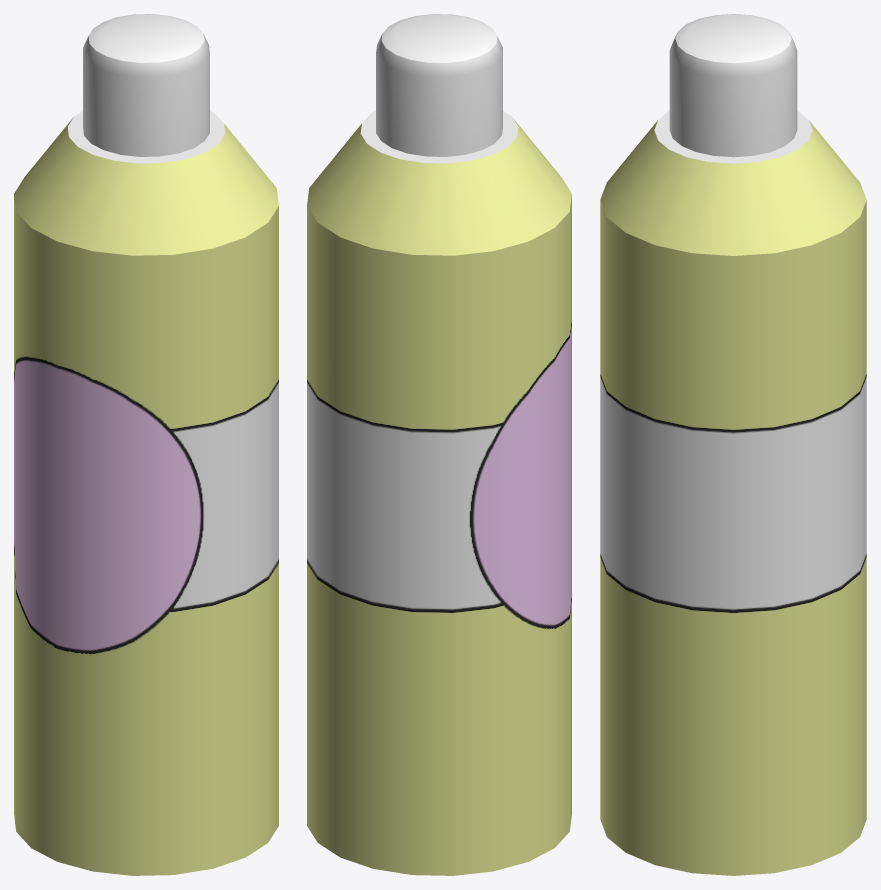
File: CleaningBottleLg.fbx
3 views of the same model, side by side, from view 1: azimuth 30°, elevation 25°; view 2: azimuth 150°, elevation 25°; view 3: azimuth 270°, elevation 25° (orthographic).
Visible parts, largest first — view 1: pCylinder3; view 2: pCylinder3; view 3: pCylinder3.
Part boxes in pixels (x1,y1,x2,y2): pCylinder3: (14,14,278,875); pCylinder3: (307,14,571,875); pCylinder3: (600,14,866,875).
Size of the model in its own units: 47.92 by 156 by 47.92.
1 material, 1 textured.
